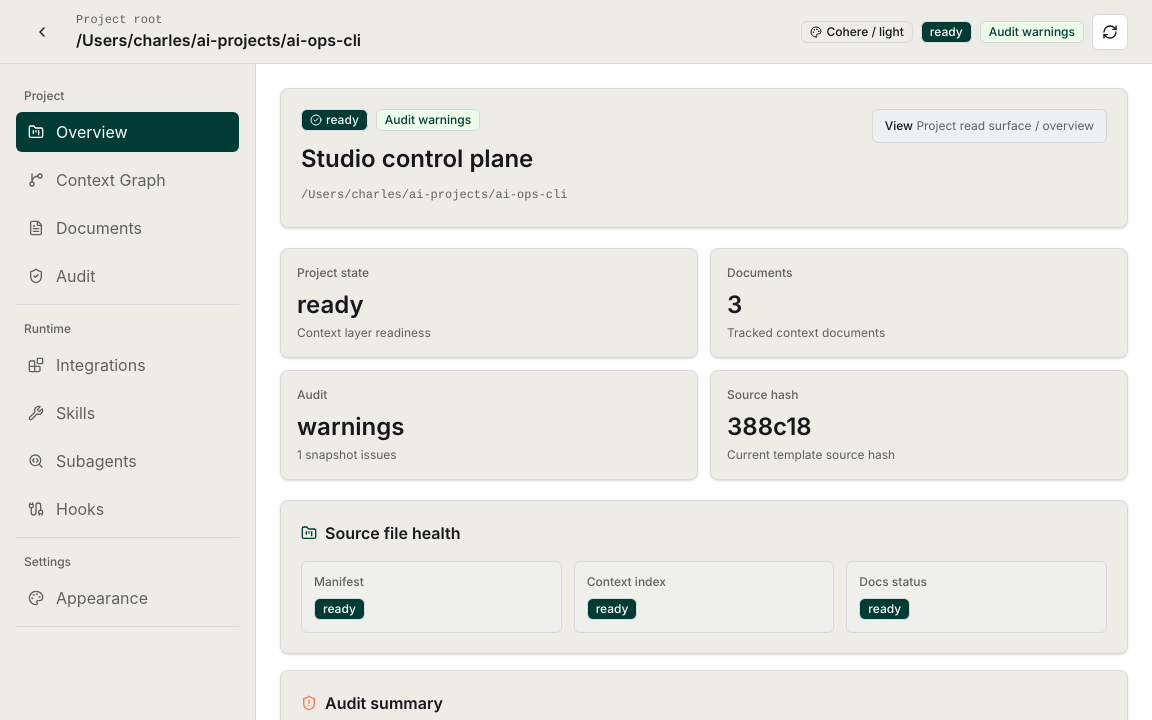
Scenario: App shell › renders Skills and Subagents as Runtime assets instead of project documents
The width and height of the screenshot is (1152, 720).
Click the button "Skills".
click(128, 413)  # box [16, 393, 239, 433]
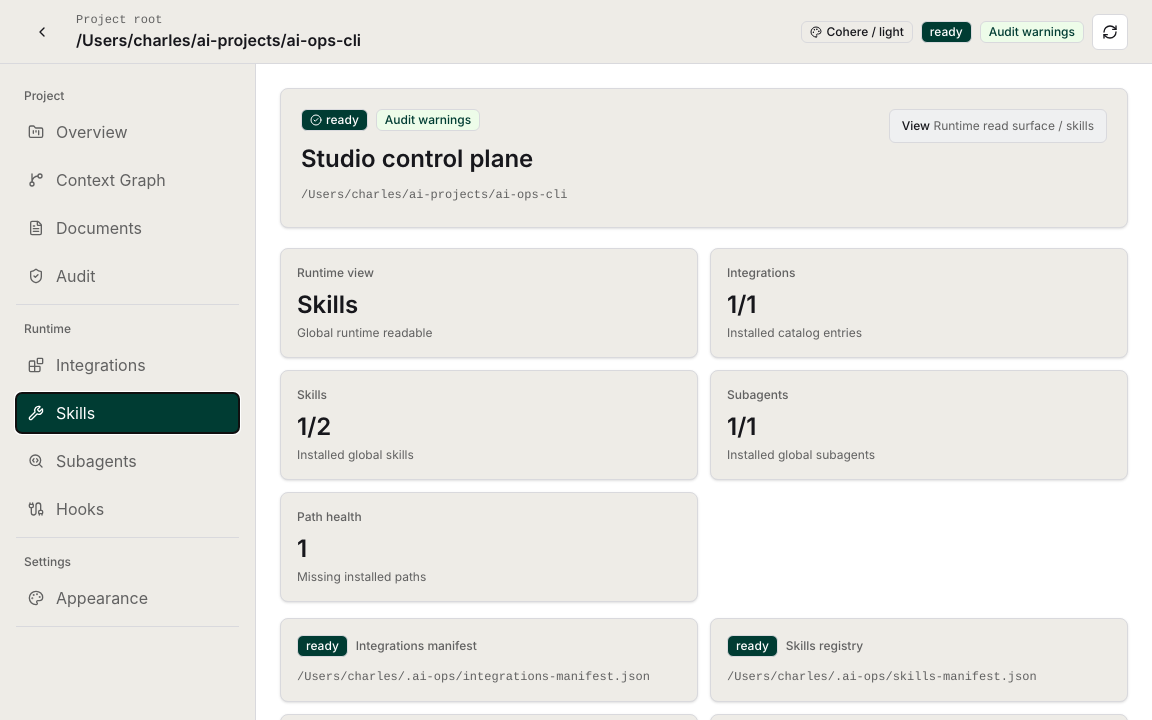
expect the text "Runtime read surface / skills" is shown: met, box [889, 109, 1107, 143]
Click the button "Subagents".
click(128, 461)  # box [16, 441, 239, 481]
(page scrolled)
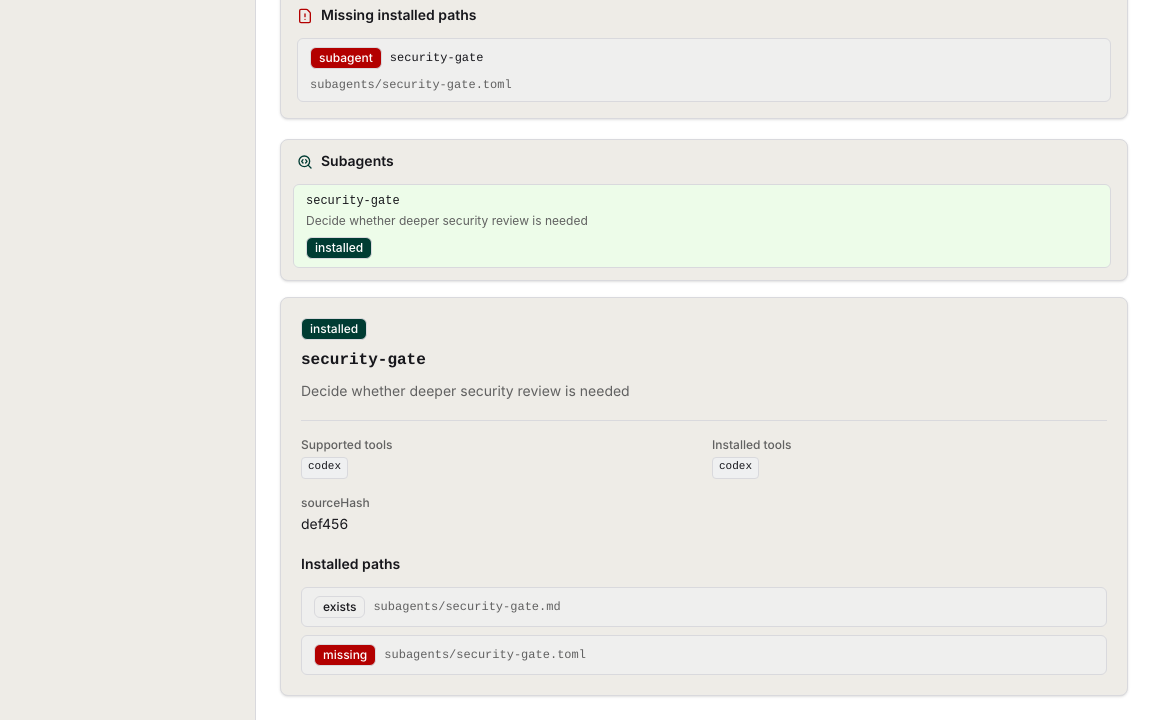
expect the text "security-gate" below "/Users/charles/.codex/hooks.json" is shown: met, box [390, 51, 483, 65]
expect the text "subagents/security-gate.toml" below "/Users/charles/.codex/hooks.json" is shown: met, box [310, 78, 512, 92]
expect the text "missing" is shown: met, box [314, 644, 376, 666]
